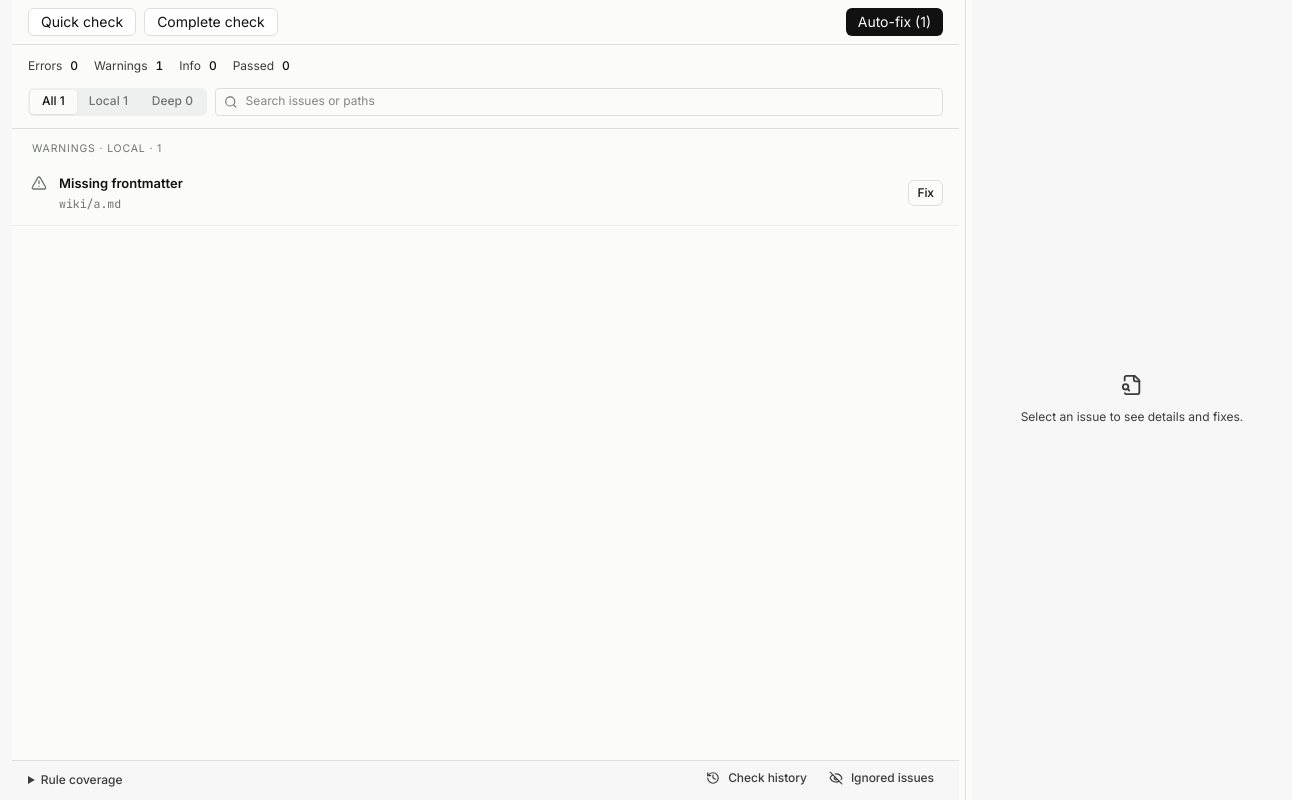
Test: LintView › keeps a Git process failure actionable without invoking the fix
The width and height of the screenshot is (1292, 800).
Click the button "Fix".
click(926, 193)  # box [908, 180, 943, 206]
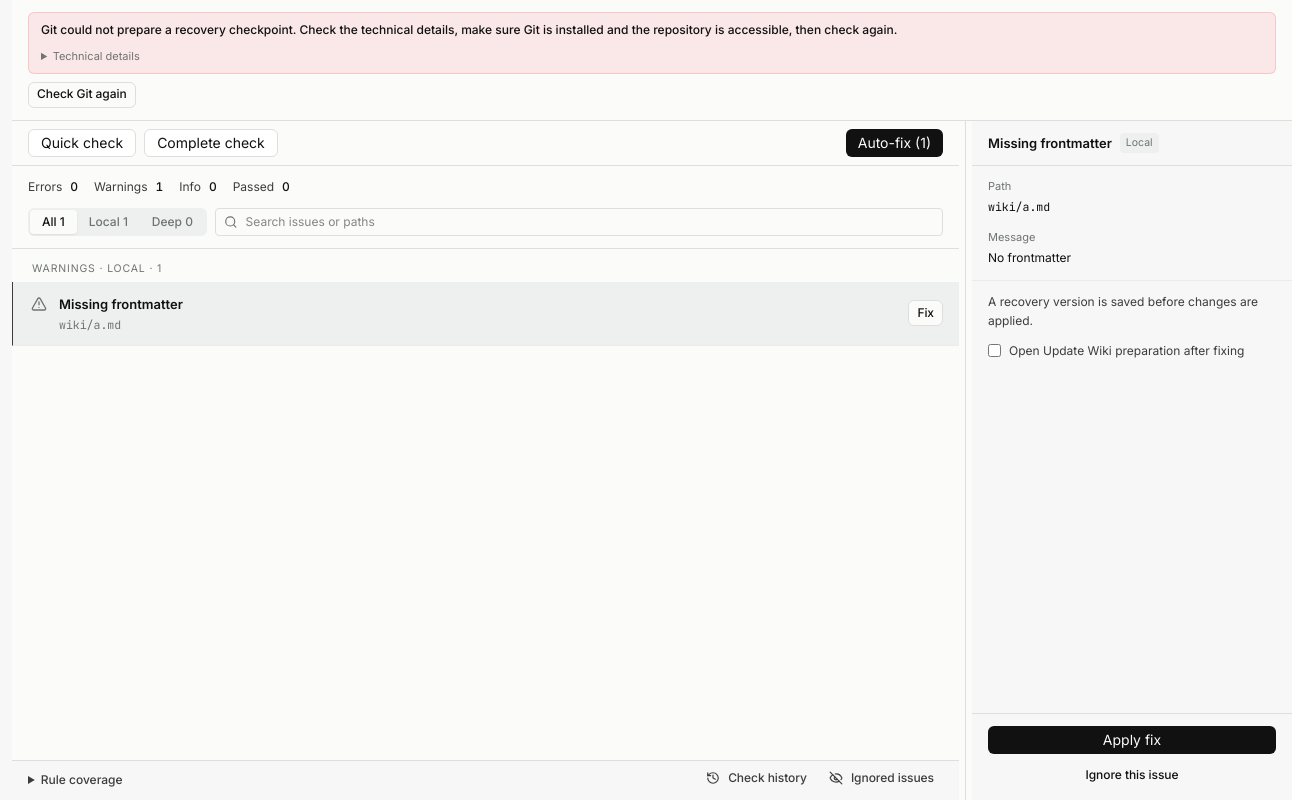
Expected: the text "Git could not prepare a recovery checkpoint" is shown, [41, 22, 897, 37]
Expected: the button "Check Git again" is enabled, [28, 82, 136, 108]
